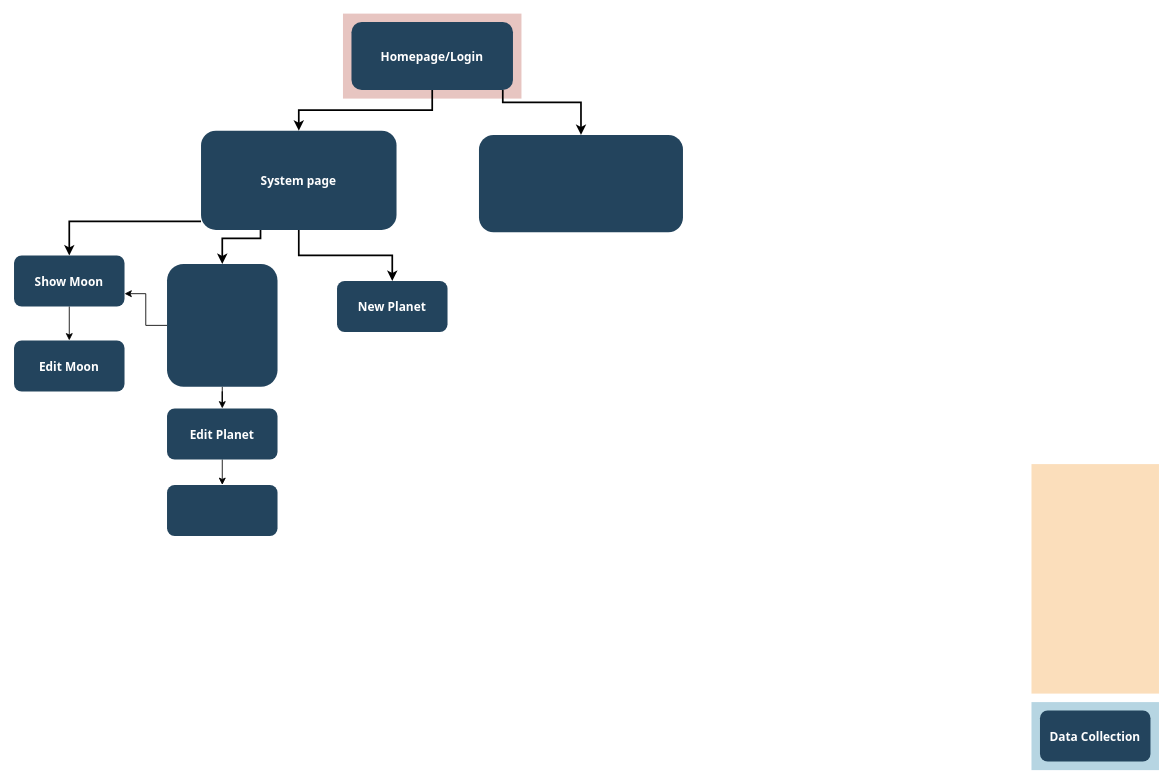
The diagram is 1173 pixels wide and 784 high, and some of its shapes have lost their labels. The centre of each missing label's shape, as x and y in pixels:
"Exit/Logout" goes at (581,183).
"New Moon" goes at (222,510).
"Show Planet (list of moons) delete planet" goes at (222,325).
